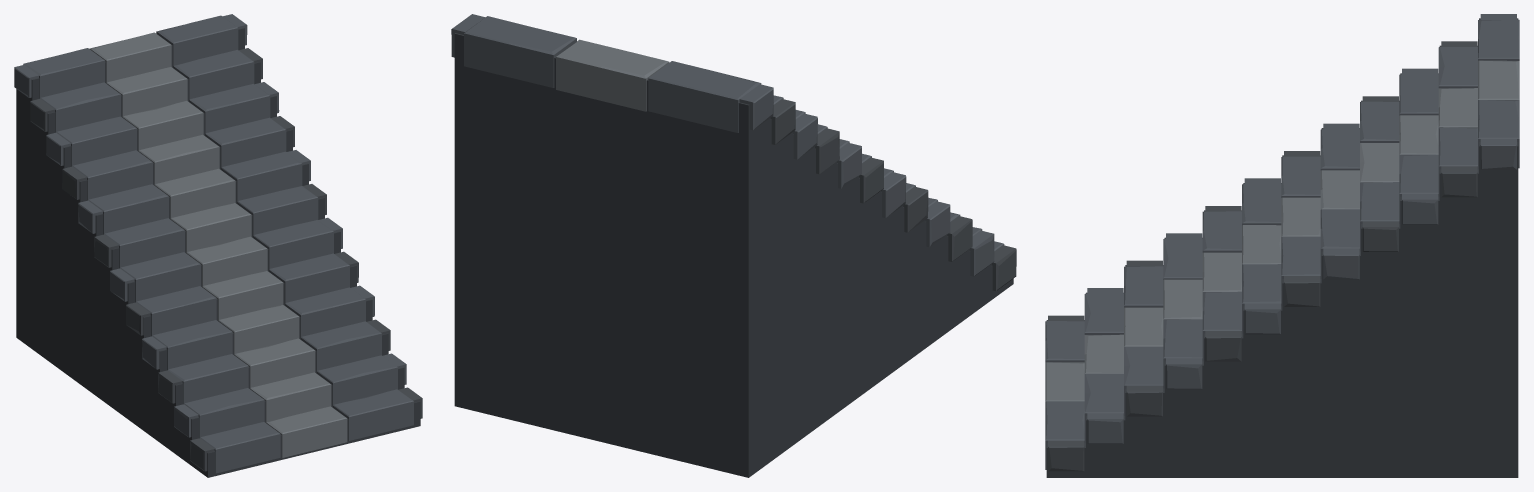
File: mdvl_dungeon_stair_01.glb
3 views of the same model, side by side, from view 1: azimuth 30°, elevation 25°; view 2: azimuth 150°, elevation 25°; view 3: azimuth 270°, elevation 25° (orthographic). The views are drawn at different scales.
Parts seen in each view (by area): view 1: mdvl_dungeon_stair_01; view 2: mdvl_dungeon_stair_01; view 3: mdvl_dungeon_stair_01.
Part boxes in pixels (x1,y1,x2,y2): mdvl_dungeon_stair_01: (14,14,422,477); mdvl_dungeon_stair_01: (451,14,1016,477); mdvl_dungeon_stair_01: (1045,14,1519,477).
Size of the model in its own units: 2.06 by 2.45 by 3.14.
1 material, 1 textured.
